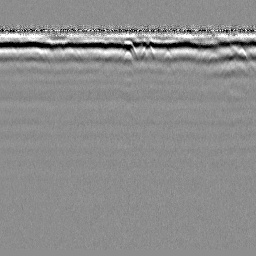cavity: (119, 39, 138, 60)
